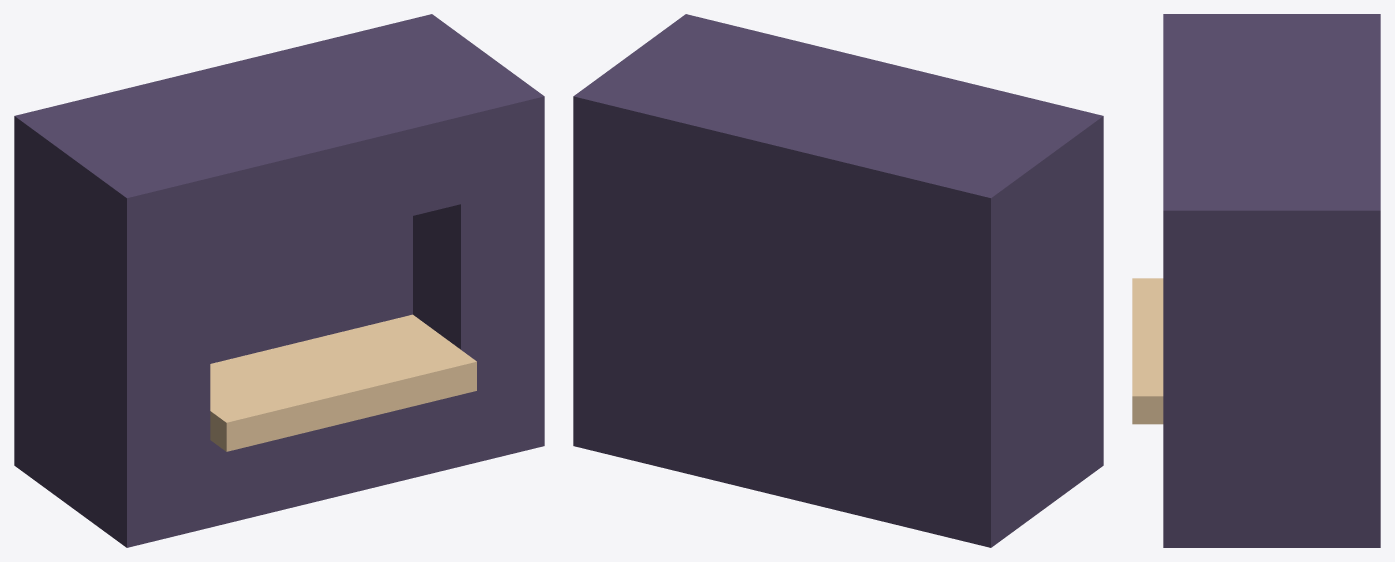
The model's file is alien-biosphere-cliff-niche-5c4a8fc6__22783.glb.
3 views of the same model, side by side, from view 1: azimuth 30°, elevation 25°; view 2: azimuth 150°, elevation 25°; view 3: azimuth 270°, elevation 25° (orthographic). The views are drawn at different scales.
Visible parts, largest first — view 1: cliff-niche; view 2: cliff-niche; view 3: cliff-niche.
Part boxes in pixels (x1,y1,x2,y2): cliff-niche: (14,14,544,547); cliff-niche: (573,14,1103,547); cliff-niche: (1132,14,1380,547).
Size of the model in its own units: 3 by 2.4 by 1.6.
